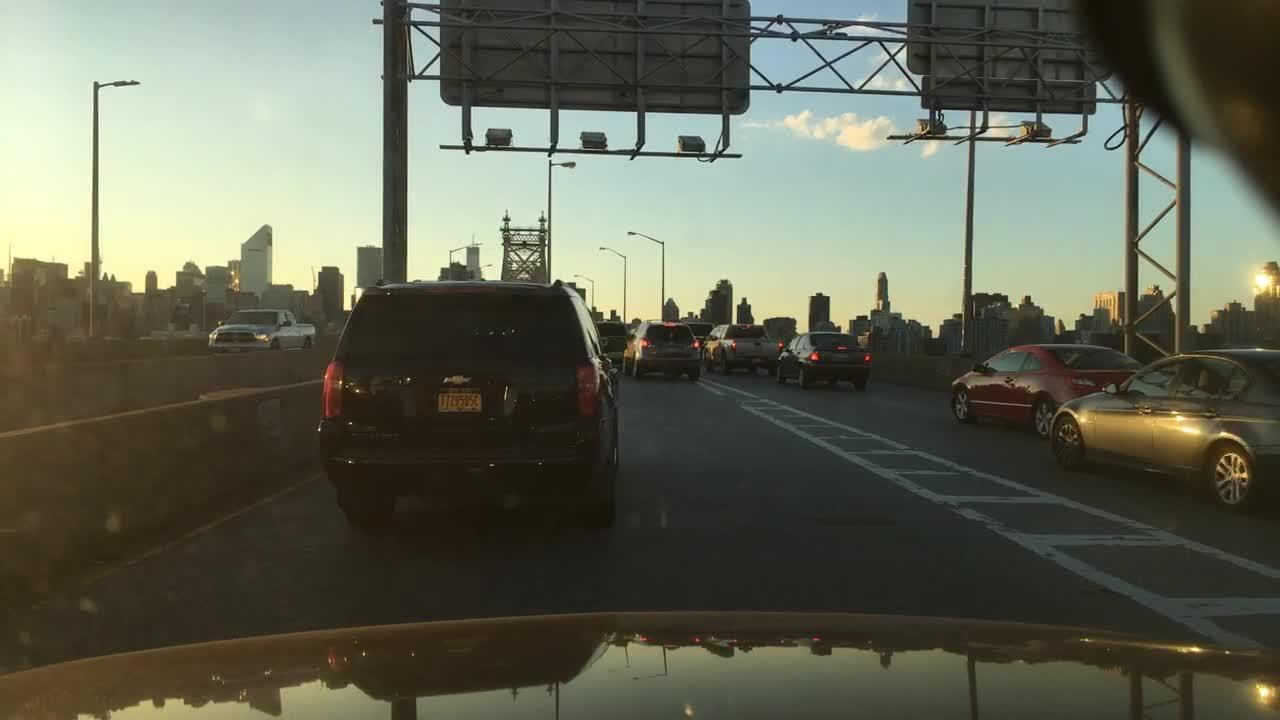chevrolet: (434, 369, 486, 394)
